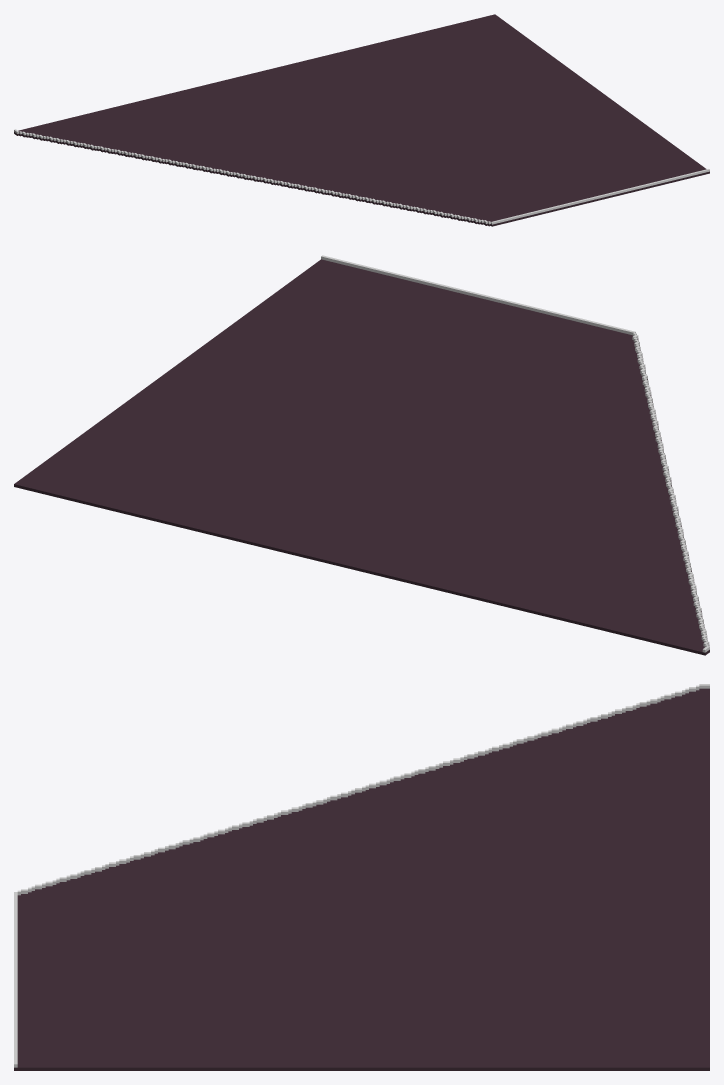
The model's file is Mapa-2.obj.
3 views of the same model, one above another, from view 1: azimuth 30°, elevation 25°; view 2: azimuth 150°, elevation 25°; view 3: azimuth 270°, elevation 25° (orthographic). The views are drawn at different scales.
Size of the model in its own units: 25.6 by 0.2 by 19.8.
1 material, 1 textured.
